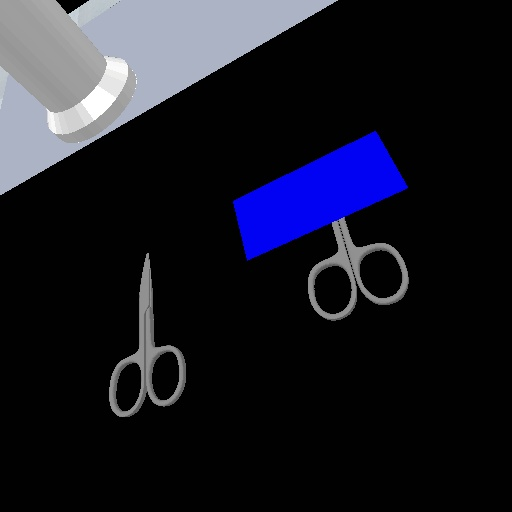tijera: (106, 250, 189, 421), (306, 214, 411, 324)
